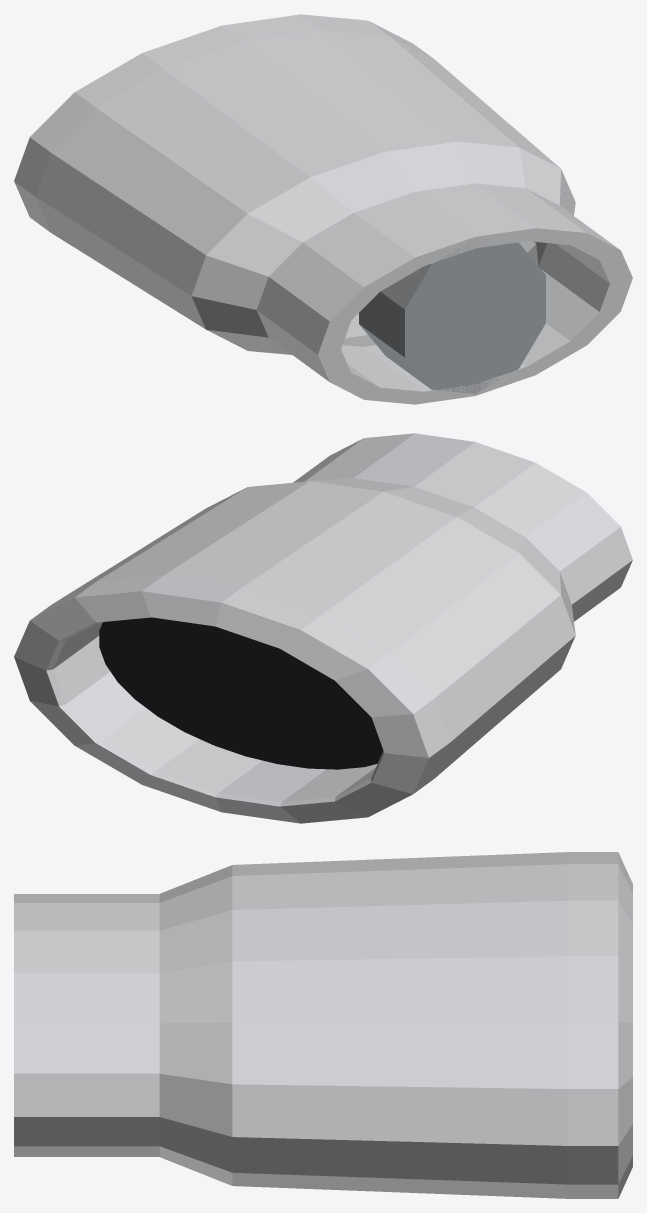
Rendered from catback_oval.glb.
The picture shows the model from 3 angles, top to bottom: view 1: azimuth 30°, elevation 25°; view 2: azimuth 150°, elevation 25°; view 3: azimuth 270°, elevation 25°; orthographic projection. The views are drawn at different scales.
Visible parts, largest first — view 1: model; view 2: model; view 3: model.
Part boxes in pixels (x1=…): model: x1=14, y1=14, x2=632, y2=404; model: x1=14, y1=433, x2=632, y2=823; model: x1=14, y1=852, x2=632, y2=1198.
Size of the model in its own units: 0.1566 by 0.0756 by 0.17.
Materials: 3 (1 with a texture image).
